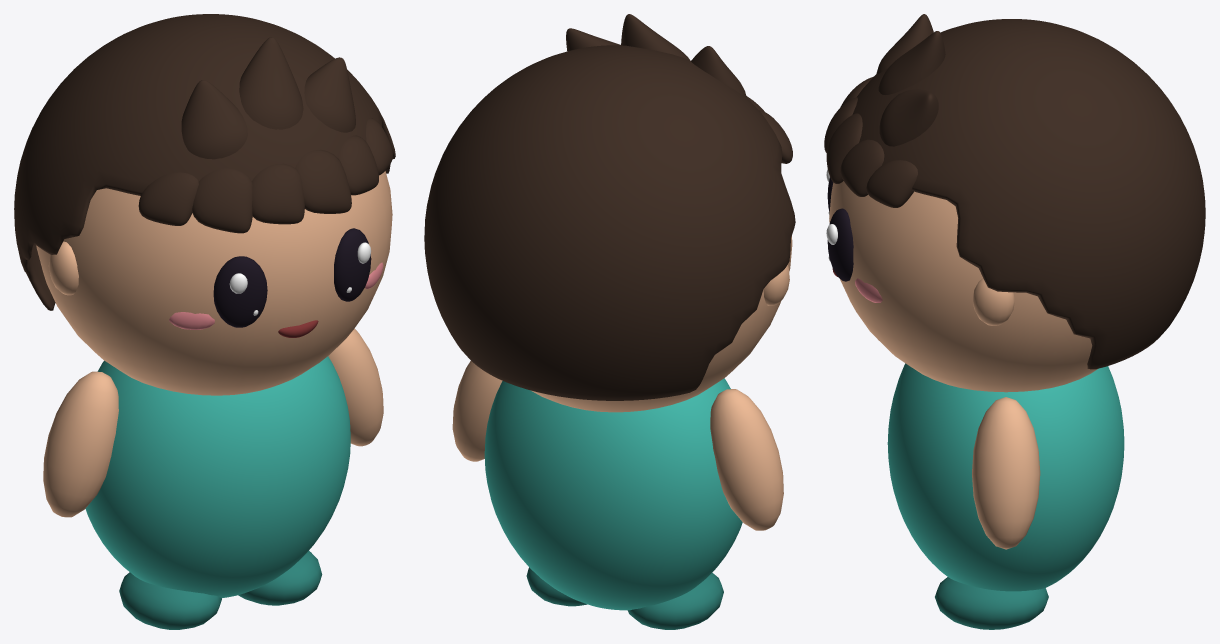
File: boy-1.glb
3 views of the same model, side by side, from view 1: azimuth 30°, elevation 25°; view 2: azimuth 150°, elevation 25°; view 3: azimuth 270°, elevation 25° (orthographic). The views are drawn at different scales.
Parts seen in each view (by area): view 1: Body, HeadSkin, Hair, HairTufts, ArmR, Feet, Face, ArmL, Blush; view 2: Hair, Body, ArmR, HeadSkin, HairTufts, Feet, ArmL; view 3: Hair, Body, HeadSkin, HairTufts, ArmL, Feet, Face.
Boxes of the visible parts, bbox=[...] form: Body: bbox=[85, 356, 350, 597]; HeadSkin: bbox=[36, 171, 392, 395]; Hair: bbox=[14, 14, 395, 310]; HairTufts: bbox=[138, 37, 392, 233]; ArmR: bbox=[43, 371, 118, 517]; Feet: bbox=[119, 551, 322, 629]; Face: bbox=[213, 228, 371, 337]; ArmL: bbox=[328, 328, 383, 446]; Blush: bbox=[169, 262, 383, 329]; Hair: bbox=[424, 45, 795, 400]; Body: bbox=[484, 378, 742, 610]; ArmR: bbox=[710, 389, 783, 530]; HeadSkin: bbox=[531, 236, 792, 412]; HairTufts: bbox=[566, 14, 792, 163]; Feet: bbox=[526, 567, 723, 629]; ArmL: bbox=[452, 361, 502, 461]; Hair: bbox=[852, 19, 1205, 369]; Body: bbox=[887, 363, 1124, 591]; HeadSkin: bbox=[829, 181, 1097, 392]; HairTufts: bbox=[824, 14, 945, 207]; ArmL: bbox=[972, 397, 1040, 549]; Feet: bbox=[935, 577, 1048, 629]; Face: bbox=[826, 169, 853, 281].
Size of the model in its own units: 1.35 by 2.24 by 1.34.
